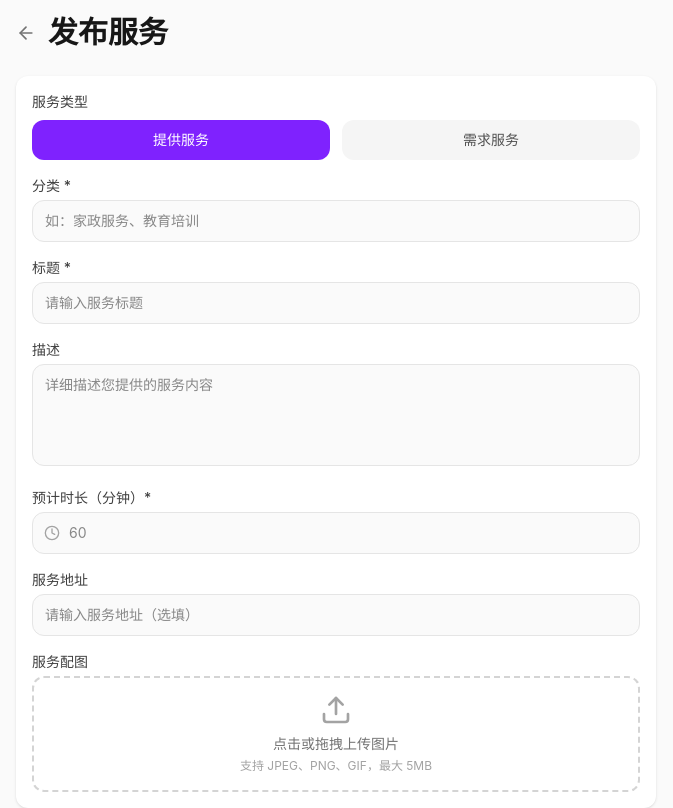
Test: TimeBank/CreateService 发布服务表单 › 描述少于10字符校验失败显示"描述至少需要10个字符"
Type "太短了" into the text box with placeholder "详细描述您提供的服务内容".
click(336, 414); type("太短了")  # box [32, 364, 640, 466]
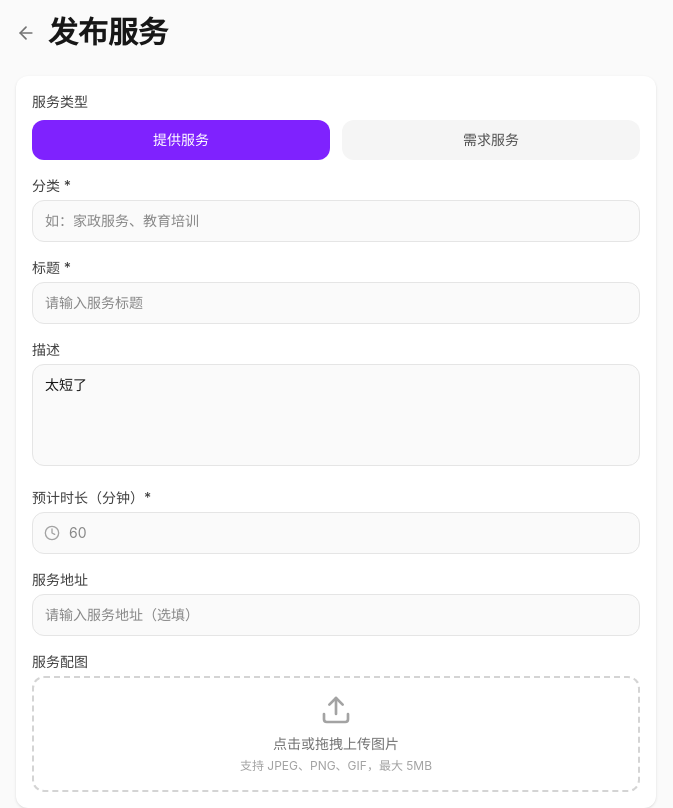
Leave the text box with placeholder "详细描述您提供的服务内容", box [32, 364, 640, 466]
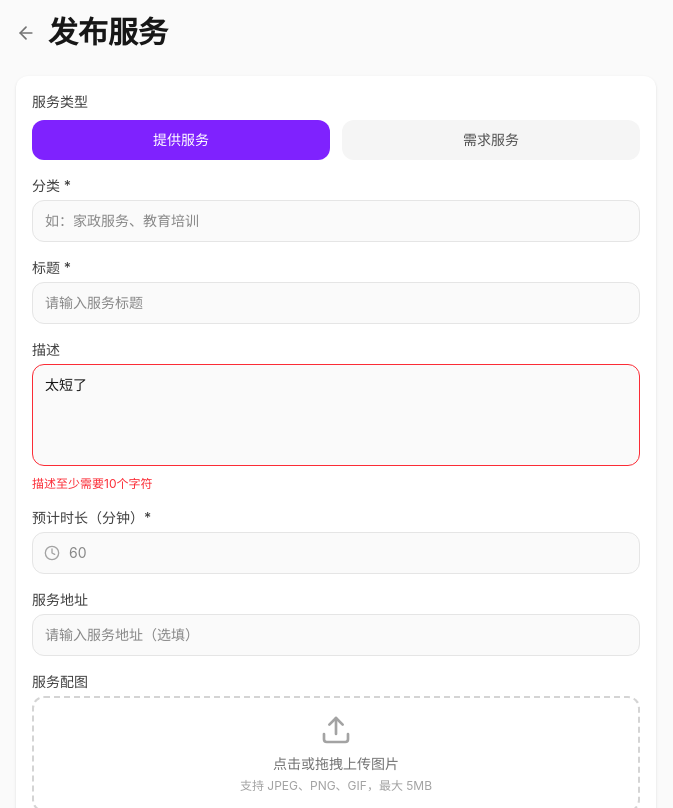
Expected: the text "描述至少需要10个字符" is shown, [32, 476, 152, 490]
